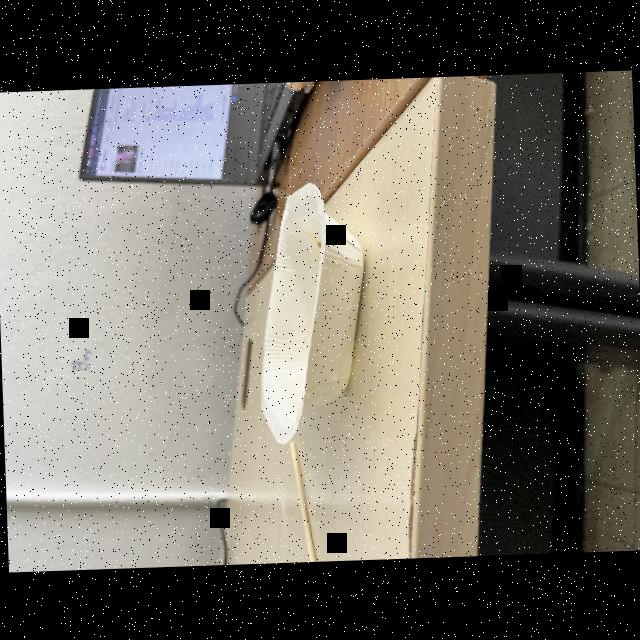cardboard_bowl: (247, 181, 373, 450)
stick: (285, 437, 317, 561)
